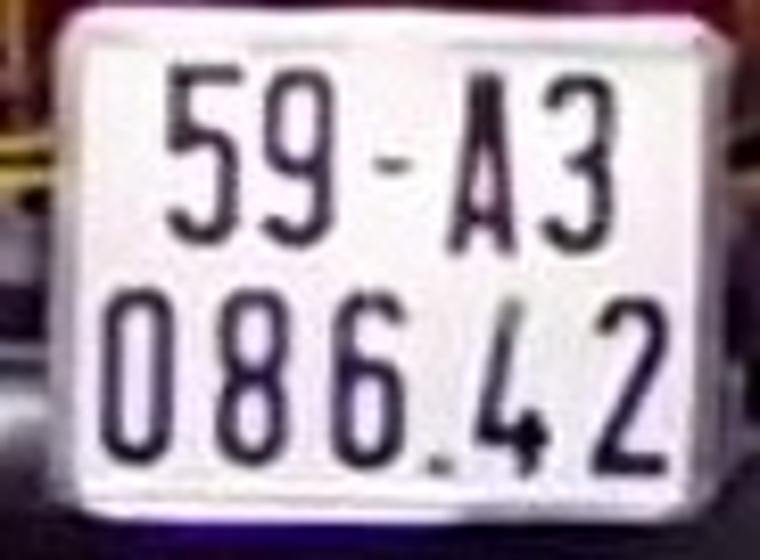-: (371, 154, 408, 172)
.: (429, 457, 449, 475)
0: (103, 283, 171, 462)
2: (593, 294, 663, 476)
3: (543, 71, 614, 256)
4: (475, 299, 549, 479)
5: (167, 59, 237, 243)
6: (327, 288, 405, 468)
8: (216, 287, 289, 467)
9: (266, 68, 330, 247)
A: (445, 75, 517, 251)
